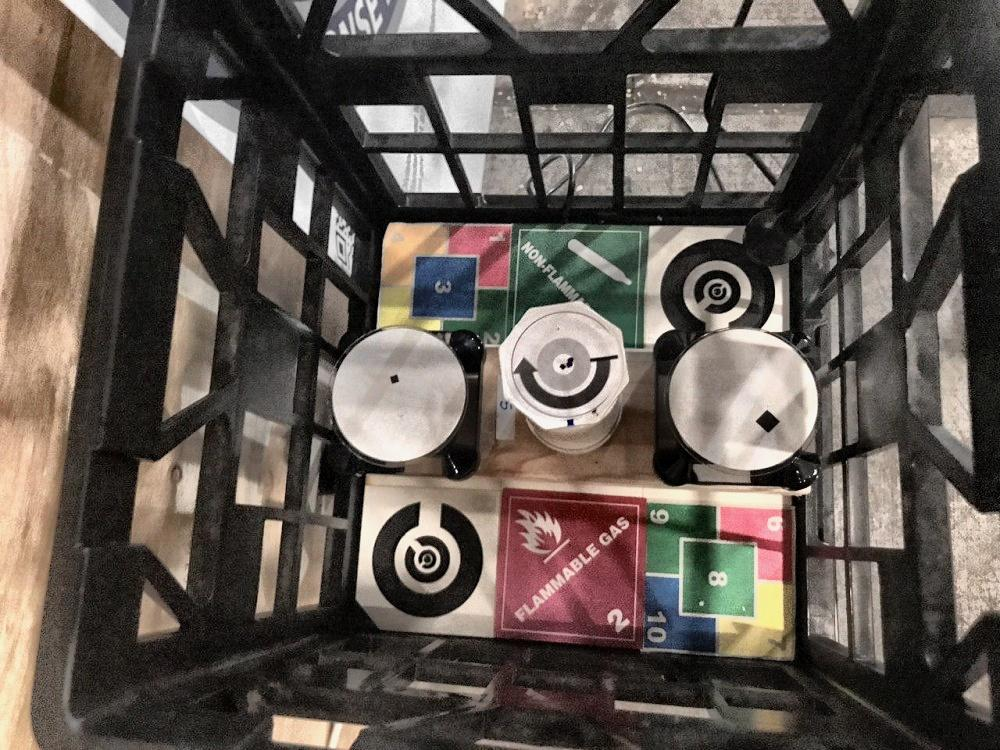flammable: (491, 484, 647, 656)
non-flammable-gas: (508, 225, 644, 353)
